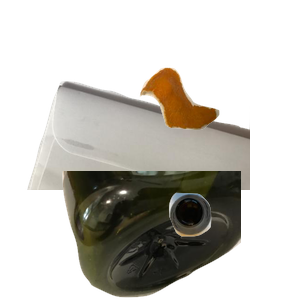glass: (166, 190, 300, 300)
paper: (25, 79, 265, 259)
plastic: (60, 171, 300, 300)
trash: (137, 65, 300, 188)
